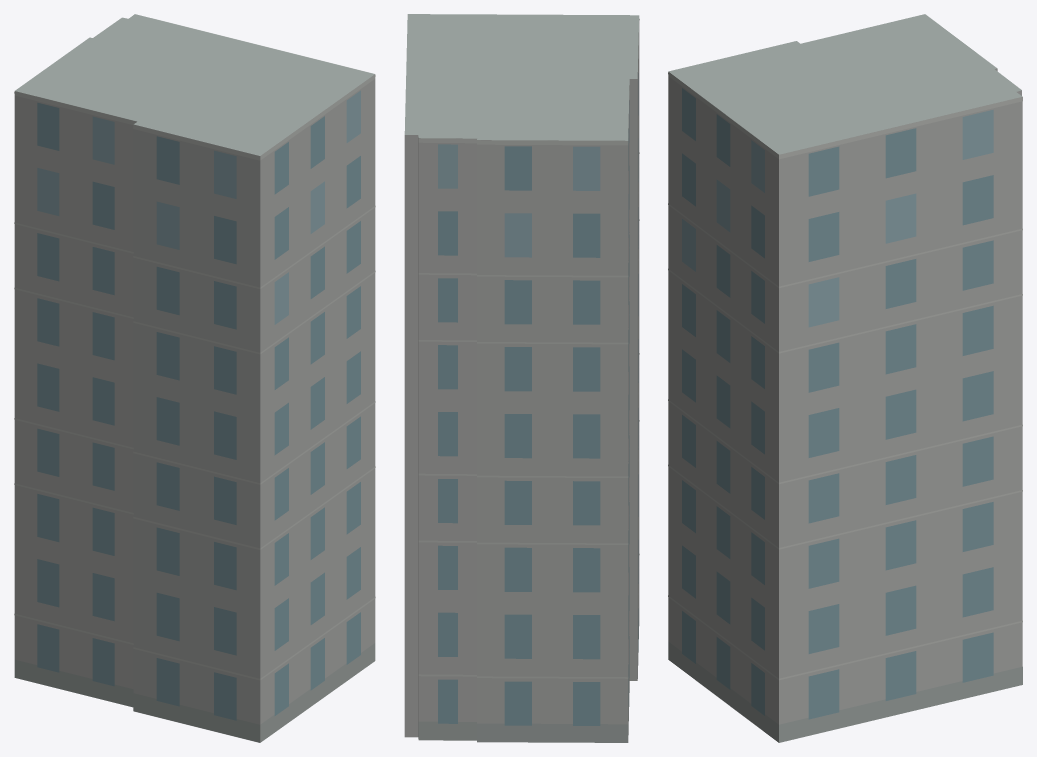
Rendered from survey-upis-33022619.glb.
The picture shows the model from 3 angles, left to right: view 1: azimuth 30°, elevation 25°; view 2: azimuth 150°, elevation 25°; view 3: azimuth 270°, elevation 25°; orthographic projection. The views are drawn at different scales.
Parts seen in each view (by area): view 1: survey-upis-33022619.tmp; view 2: survey-upis-33022619.tmp; view 3: survey-upis-33022619.tmp.
Part boxes in pixels (left/top/right/bottom): survey-upis-33022619.tmp: left=14, top=14, right=375, bottom=742; survey-upis-33022619.tmp: left=404, top=14, right=639, bottom=742; survey-upis-33022619.tmp: left=668, top=14, right=1022, bottom=742.
Size of the model in its own units: 16.17 by 31.45 by 17.2.
